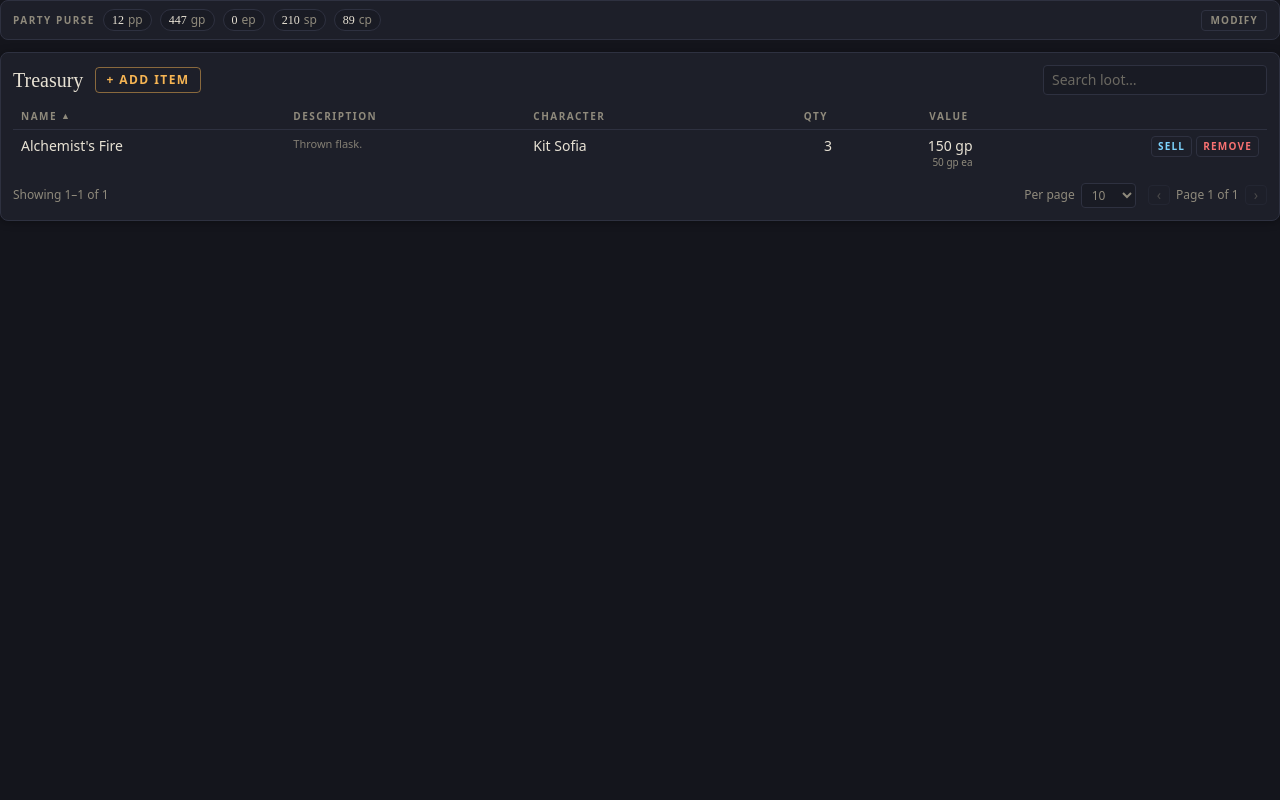
Test case: TreasuryPanel — modify currency modal › typed negative or fractional values block the save with a message
Click the button with test id "currency-modify" at (1234, 20), box [1201,10,1267,30]
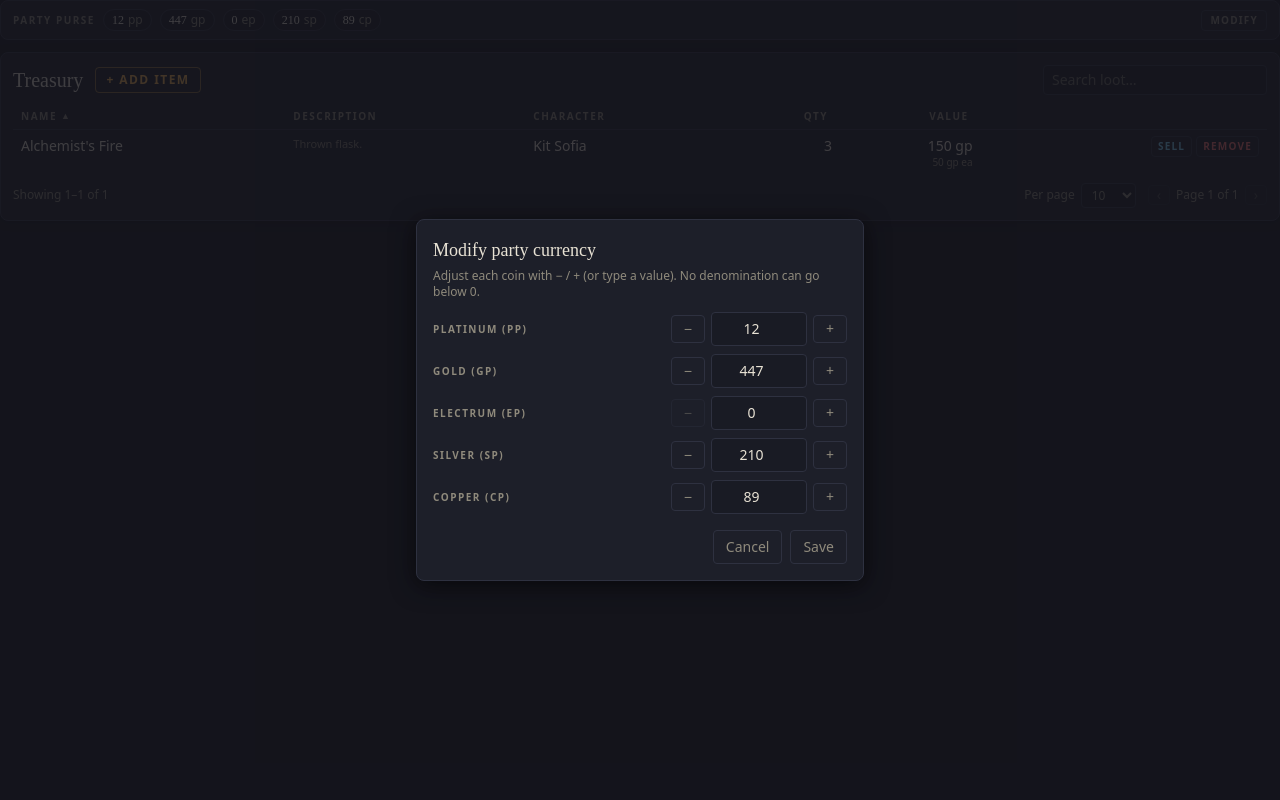
Expected: the dialog with test id "modal-currency" is shown, [416,219,864,581]
Replace the text in the number field named "Copper (cp) total" with "-3" at (759, 497), box [711,480,807,514]
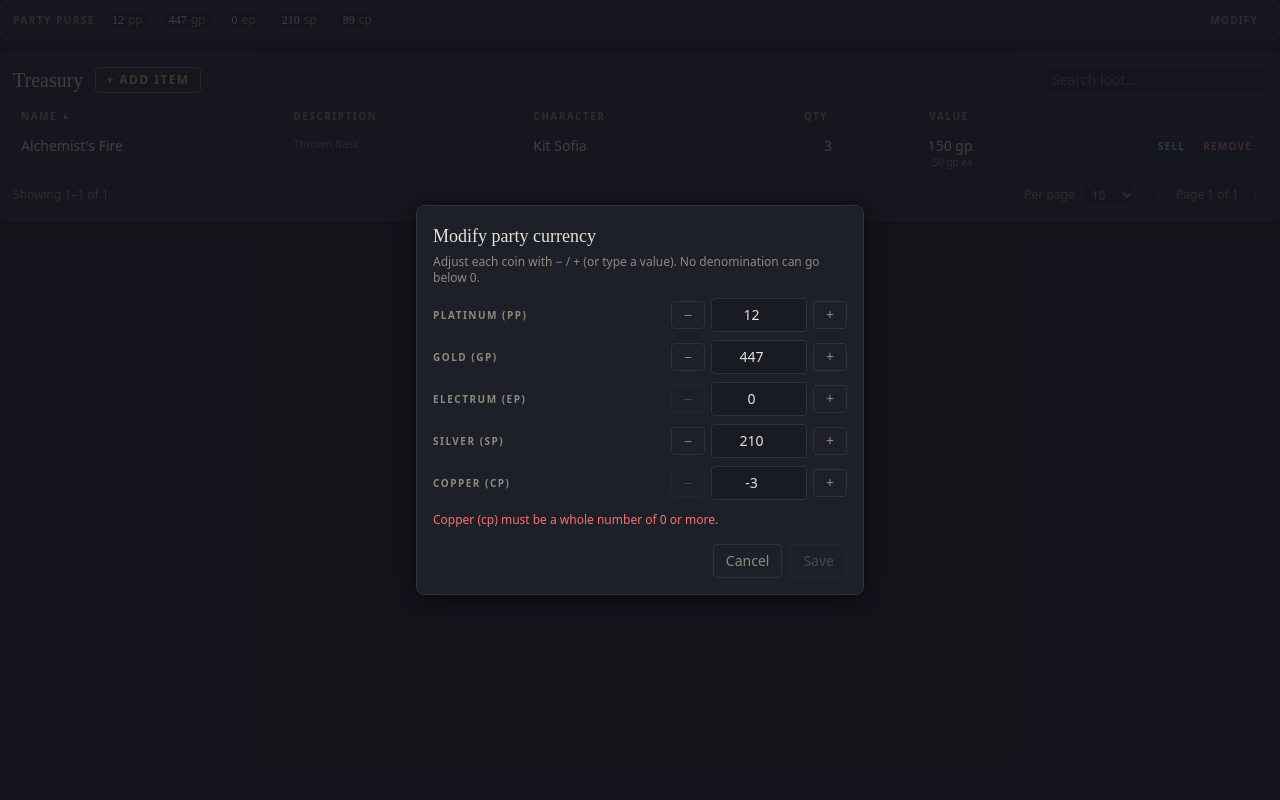
Expected: the list with test id "currency-errors" reads "Copper (cp) must be a whole number of 0 or more.", [433,511,718,528]
Expected: the button with test id "currency-confirm" is disabled, [790,544,847,578]
Replace the text in the number field named "Copper (cp) total" with "2.5" at (759, 483), box [711,466,807,500]
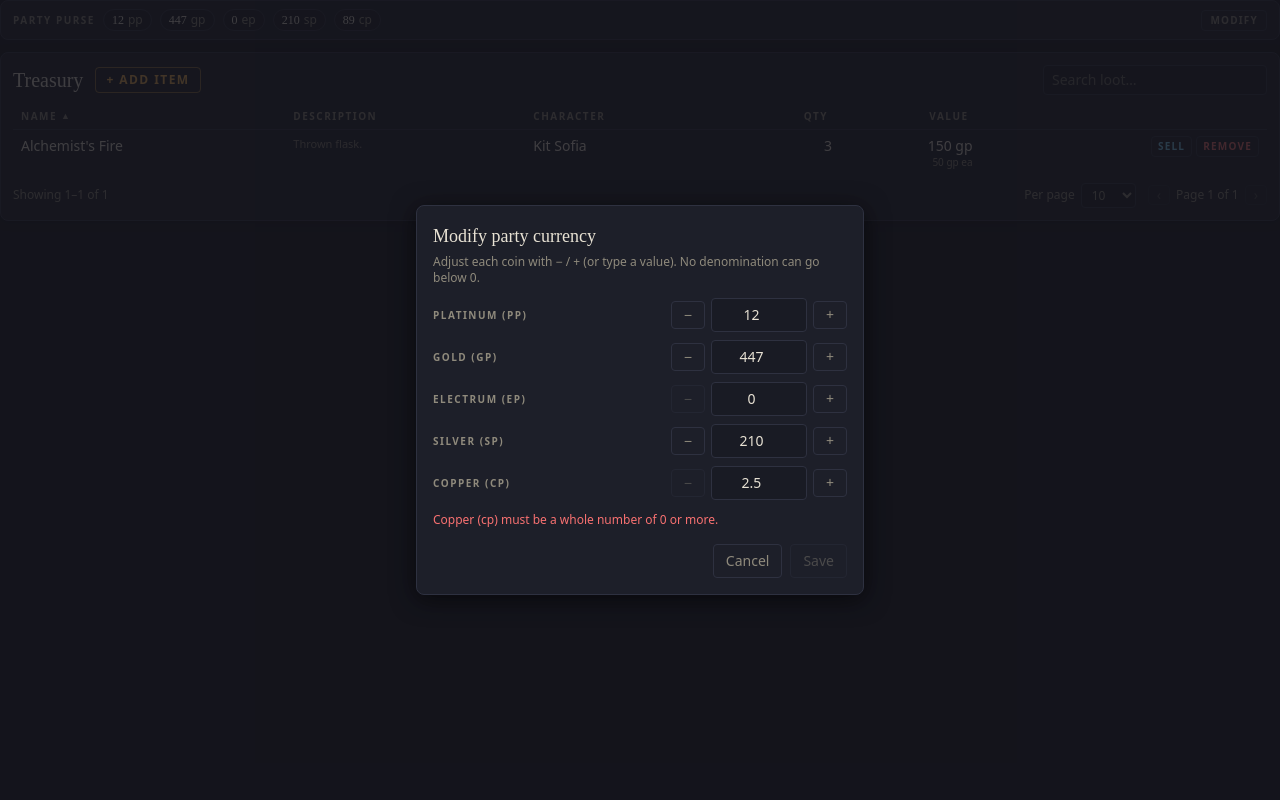
Expected: the button with test id "currency-confirm" is disabled, [790,544,847,578]
Replace the text in the number field named "Copper (cp) total" with "0" at (759, 483), box [711,466,807,500]
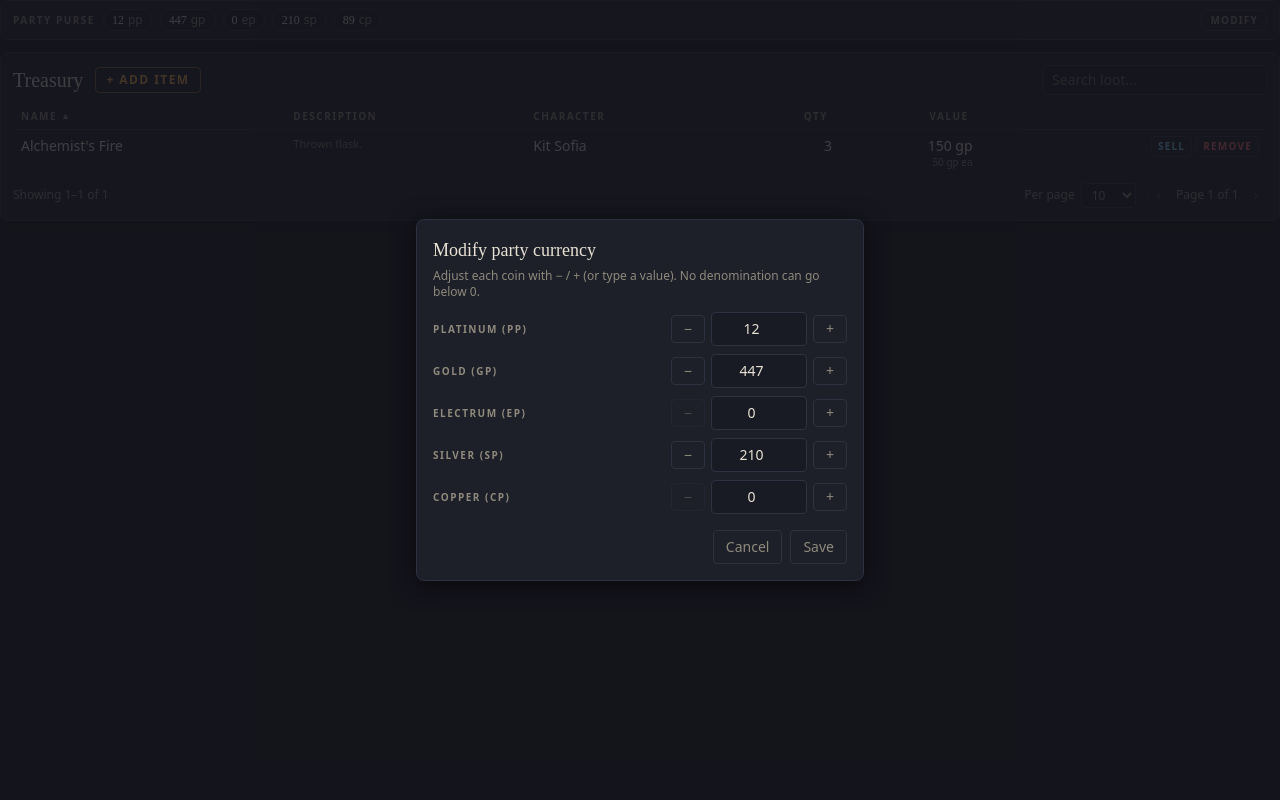
Expected: the button with test id "currency-confirm" is enabled, [790,530,847,564]
